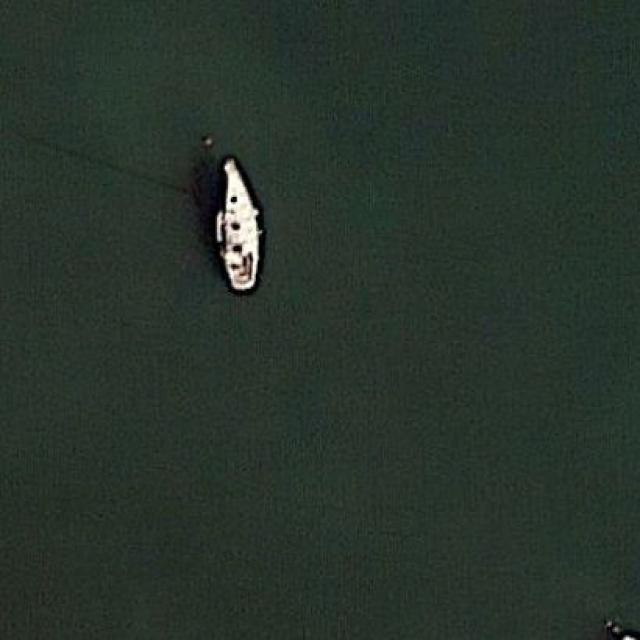ship: (206, 151, 262, 294)
